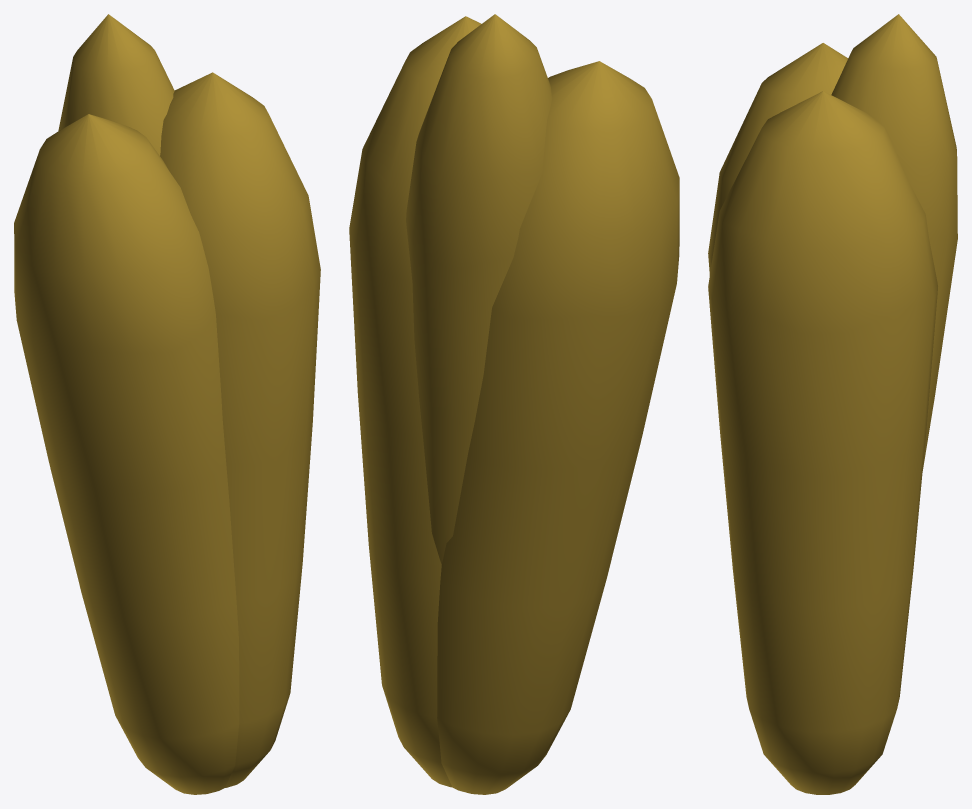
The model's file is OatModel.FBX.
3 views of the same model, side by side, from view 1: azimuth 30°, elevation 25°; view 2: azimuth 150°, elevation 25°; view 3: azimuth 270°, elevation 25° (orthographic). The views are drawn at different scales.
Visible parts, largest first — view 1: ChamferCyl001; view 2: ChamferCyl001; view 3: ChamferCyl001.
Boxes of the visible parts, box(x1,y1,x2,y2) form: ChamferCyl001: box(14, 14, 320, 794); ChamferCyl001: box(349, 14, 679, 794); ChamferCyl001: box(708, 14, 957, 794).
Size of the model in its own units: 7.05 by 18.9 by 5.72.
